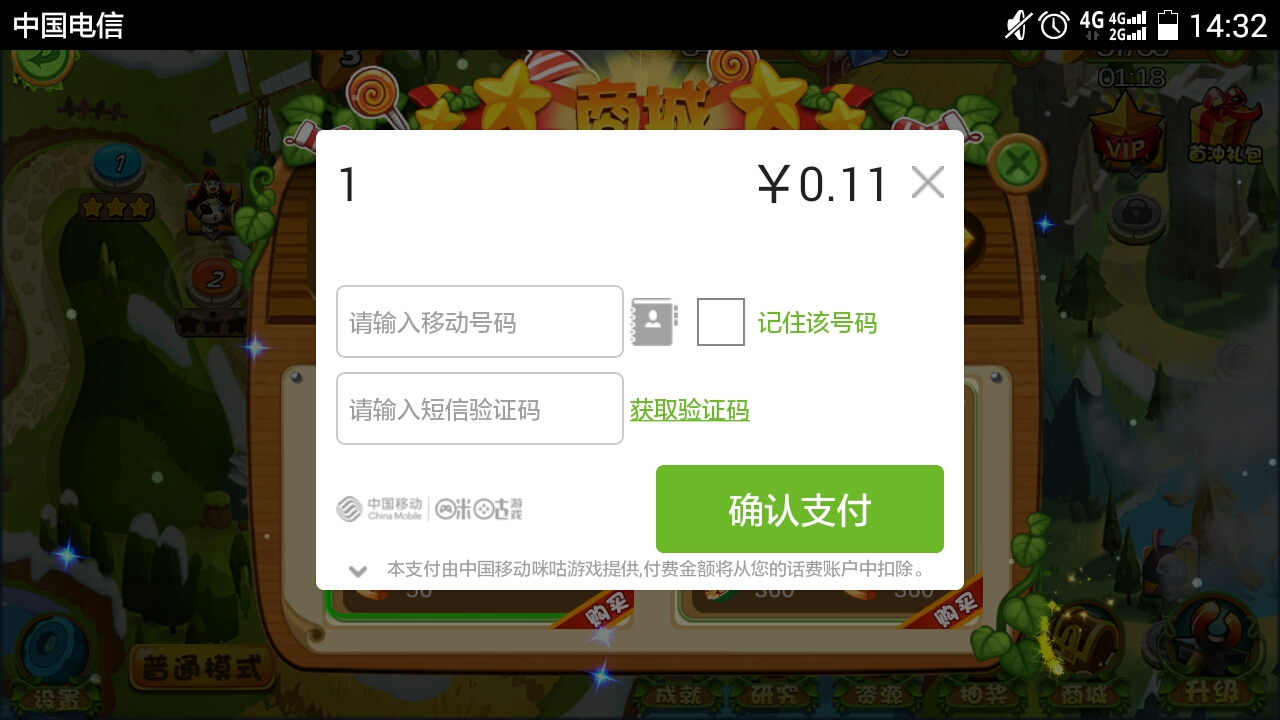imgbutton: (903, 154, 952, 215)
